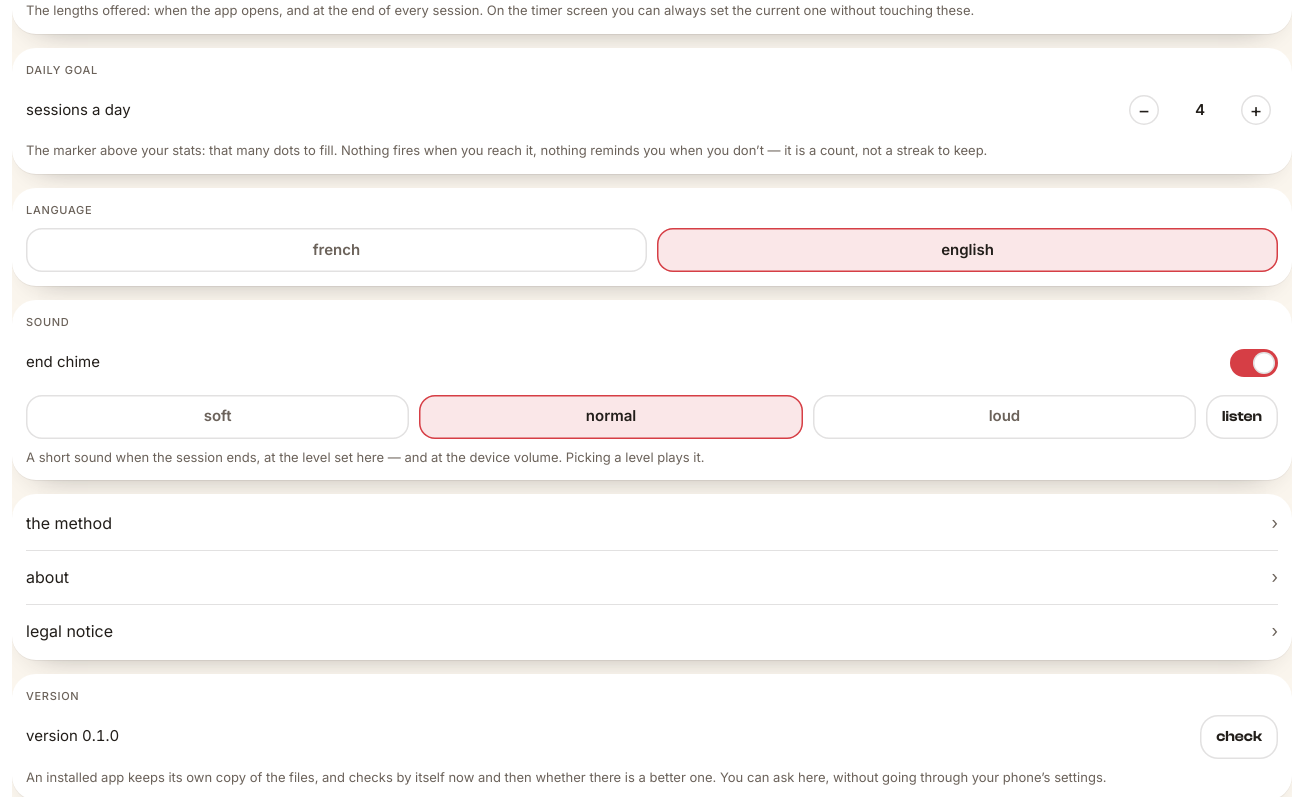
the method page › does not claim the numbers are proven
The image size is (1292, 797).
(page scrolled)
Click the button "the method ›": (69, 523) [26,496,1278,550]
(page scrolled)
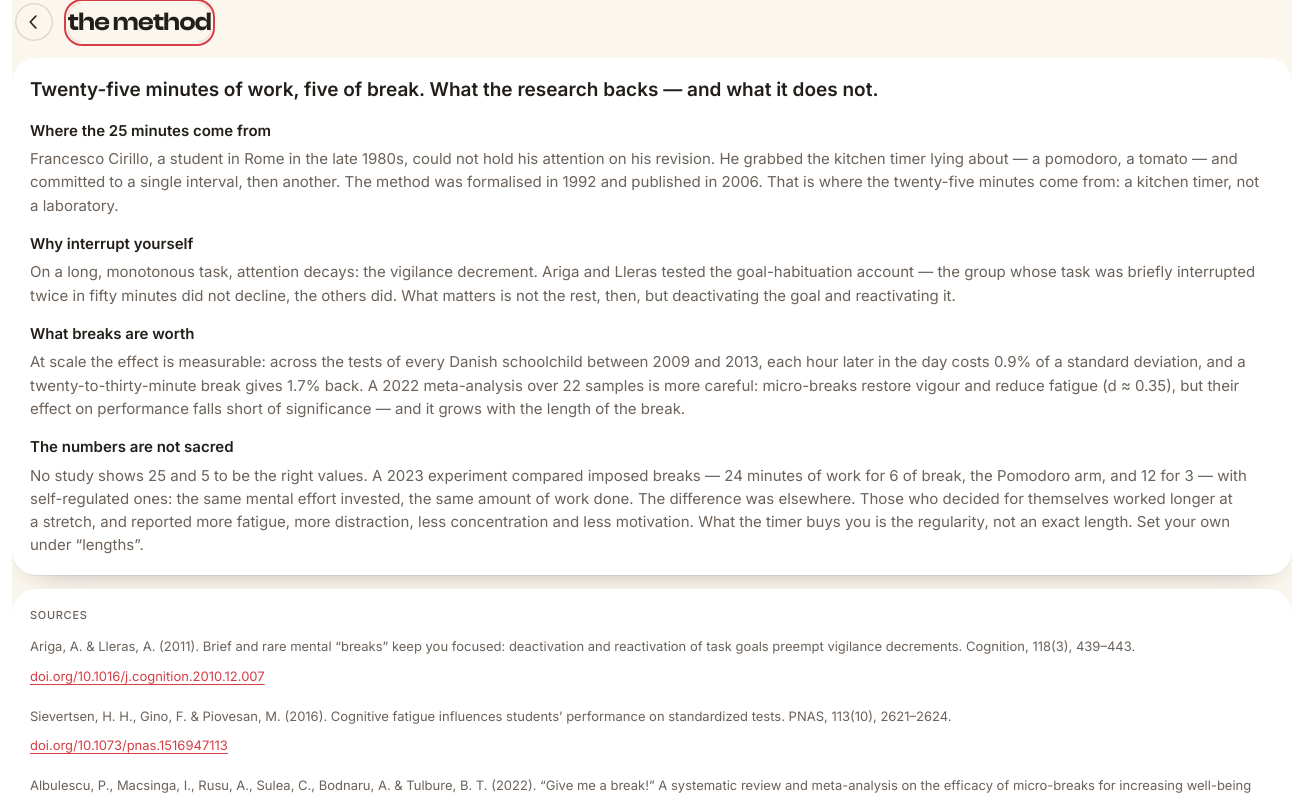
Expected: the text "No study shows 25 and 5 to be the right values" is shown, [30,466,1247,554]
Expected: the text "a kitchen timer, not a laboratory" is shown, [30,149,1259,214]
